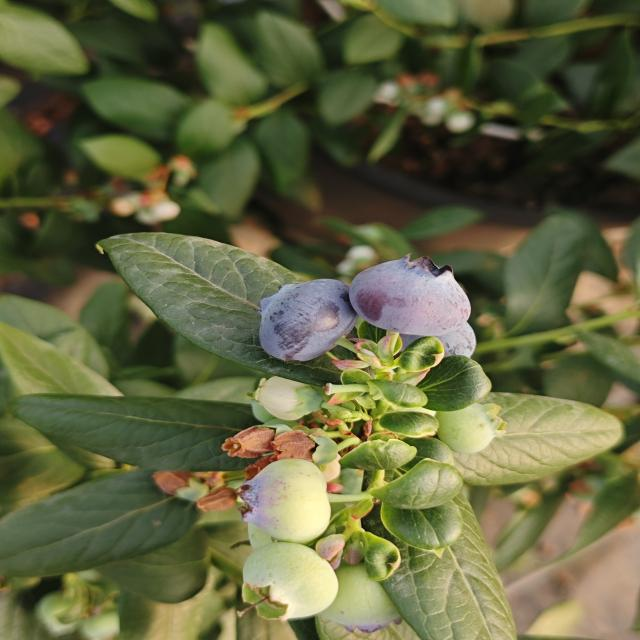ripe: (340, 245, 490, 326), (247, 273, 363, 367), (381, 316, 484, 383)
